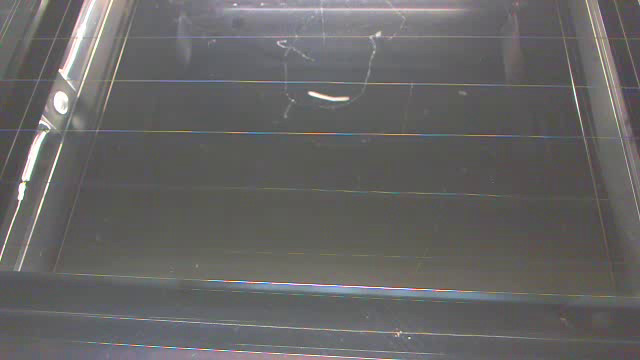Alfa: (300, 88, 357, 105)
